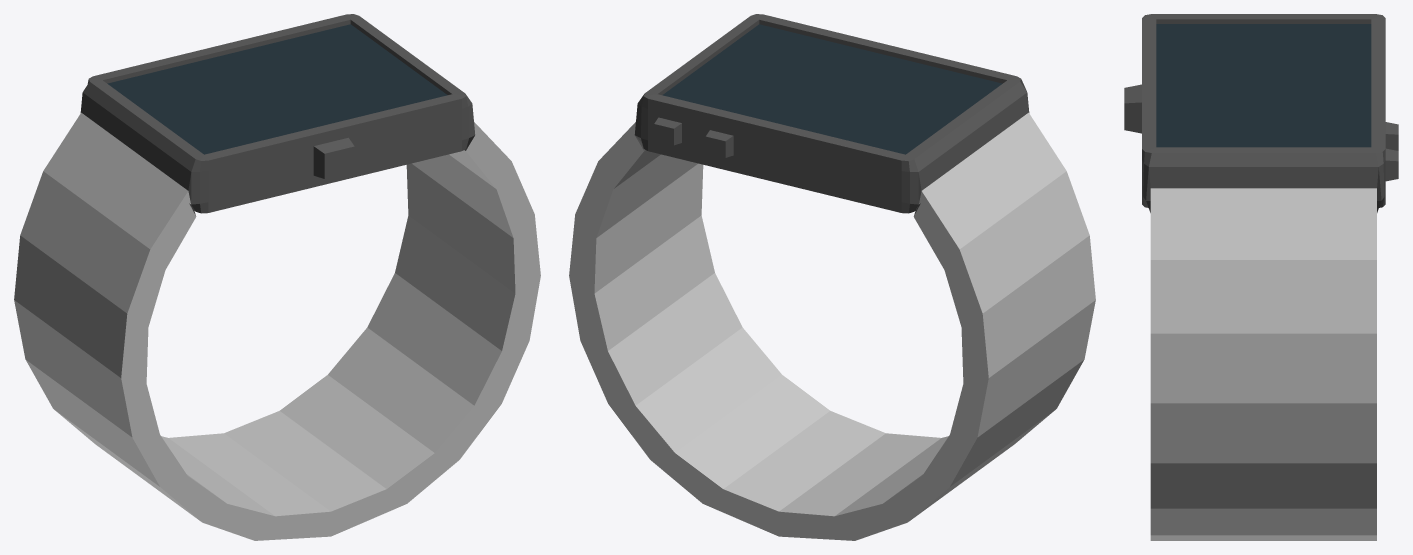
Rendered from Montre.fbx.
The picture shows the model from 3 angles, left to right: view 1: azimuth 30°, elevation 25°; view 2: azimuth 150°, elevation 25°; view 3: azimuth 270°, elevation 25°; orthographic projection. The views are drawn at different scales.
Parts seen in each view (by area): view 1: Cube; view 2: Cube; view 3: Cube.
Boxes of the visible parts, <box> form: Cube: <box>14,14,540,540</box>; Cube: <box>569,14,1095,540</box>; Cube: <box>1124,14,1398,540</box>.
Bounding box in the file's own units: 6.42 × 5.99 × 3.44.
